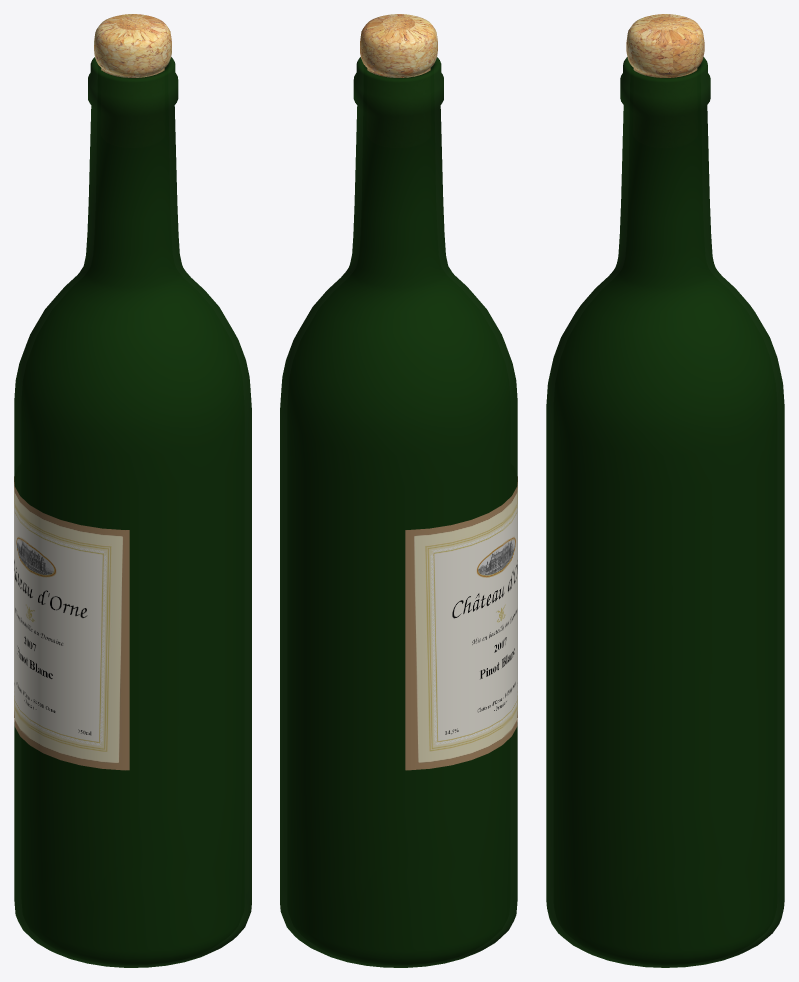
File: weinflasche.fbx
The picture shows the model from 3 angles, left to right: view 1: azimuth 30°, elevation 25°; view 2: azimuth 150°, elevation 25°; view 3: azimuth 270°, elevation 25°; orthographic projection.
Parts seen in each view (by area): view 1: Wine_Bottle_White_Cork_Cylinder.001; view 2: Wine_Bottle_White_Cork_Cylinder.001; view 3: Wine_Bottle_White_Cork_Cylinder.001.
Part boxes in pixels (bbox=[...]): Wine_Bottle_White_Cork_Cylinder.001: bbox=[14, 14, 251, 967]; Wine_Bottle_White_Cork_Cylinder.001: bbox=[280, 14, 517, 967]; Wine_Bottle_White_Cork_Cylinder.001: bbox=[546, 14, 784, 967].
Size of the model in its own units: 0.1008 by 0.4203 by 0.1007.
3 materials, 2 textured.
